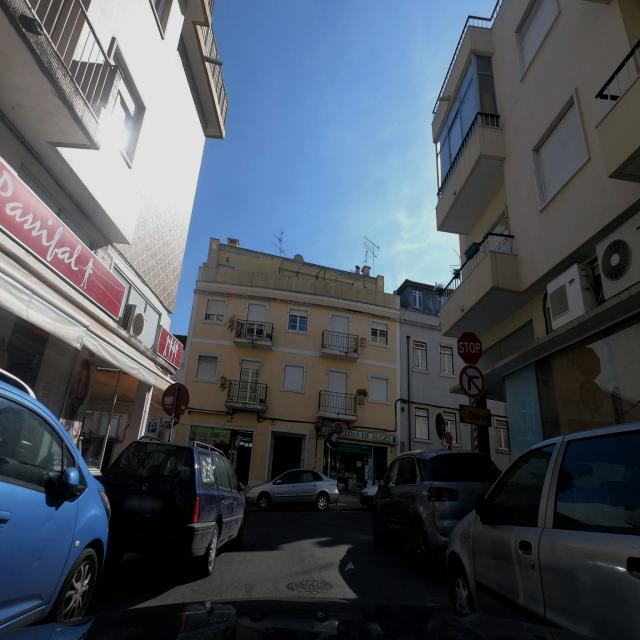car: (445, 418, 640, 640), (0, 347, 111, 632), (95, 438, 247, 577), (371, 447, 503, 578), (244, 468, 340, 512), (358, 465, 392, 510)
